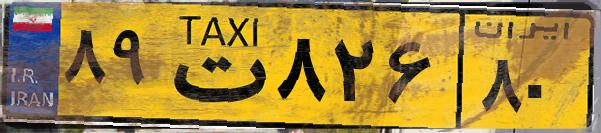0: (525, 38, 570, 115)
2: (330, 28, 385, 110)
6: (385, 28, 445, 110)
8: (270, 28, 330, 110), (57, 26, 110, 100), (475, 38, 525, 113)
9: (110, 28, 158, 98)
ت: (158, 12, 270, 120)
